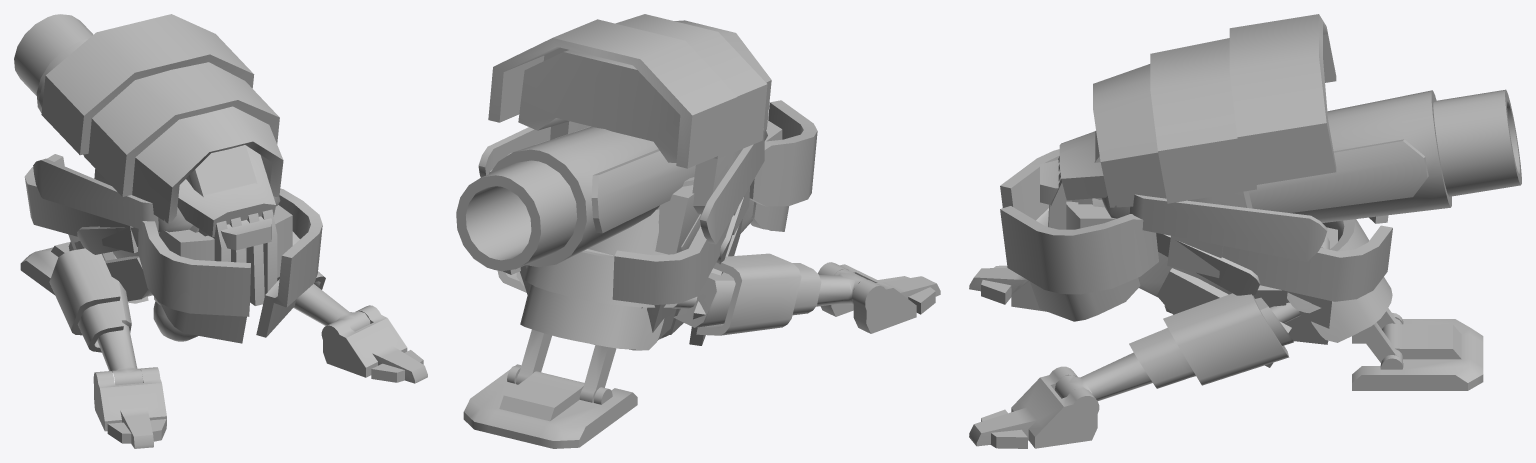
Rendered from cannon_main.glb.
3 views of the same model, side by side, from view 1: azimuth 30°, elevation 25°; view 2: azimuth 150°, elevation 25°; view 3: azimuth 270°, elevation 25° (orthographic). The views are drawn at different scales.
Visible parts, largest first — view 1: cannon_main_head, cannon_main_legs; view 2: cannon_main_head, cannon_main_legs; view 3: cannon_main_head, cannon_main_legs.
Boxes of the visible parts, x1,y1,x2,y2 form: cannon_main_head: [14, 14, 322, 343]; cannon_main_legs: [20, 145, 427, 448]; cannon_main_head: [456, 14, 817, 350]; cannon_main_legs: [463, 127, 940, 448]; cannon_main_head: [1000, 14, 1521, 367]; cannon_main_legs: [969, 131, 1483, 448].
Size of the model in its own units: 96.7 by 85.97 by 131.
1 material, 1 textured.
